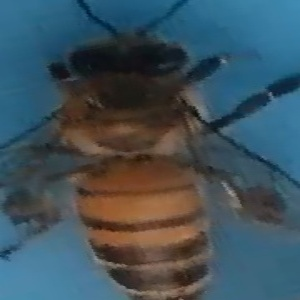bee: (3, 4, 292, 300)
